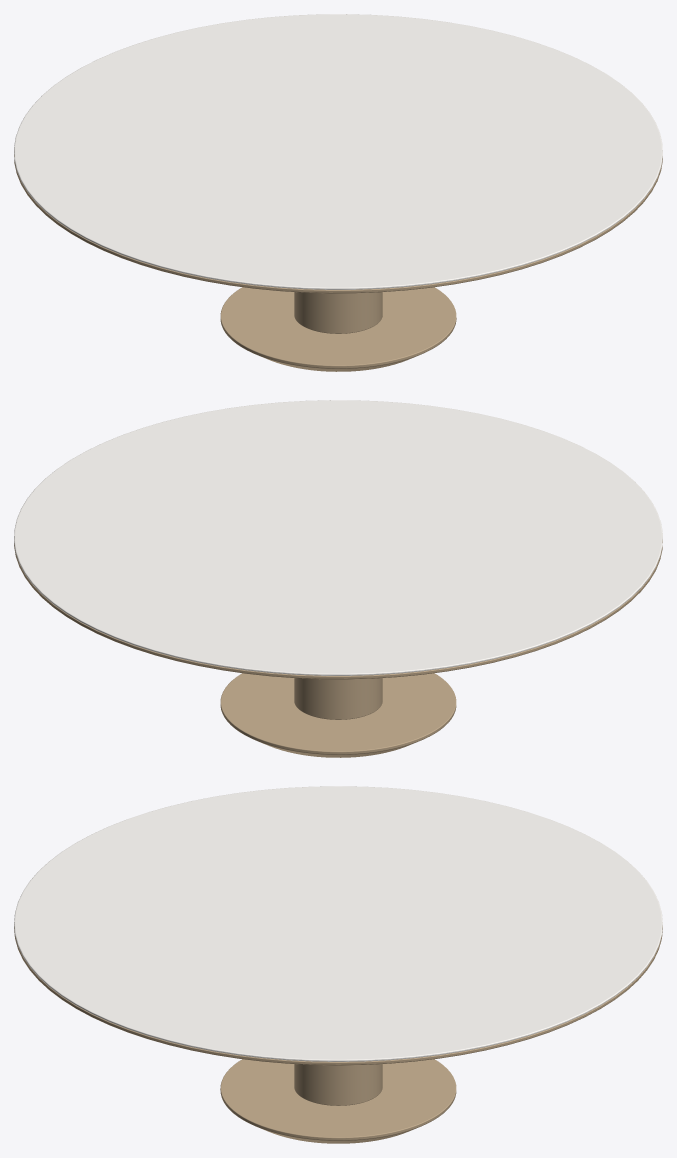
File: orbit_d110h33_hoje.glb
3 renders of one model, top to bottom at view 1: azimuth 30°, elevation 25°; view 2: azimuth 150°, elevation 25°; view 3: azimuth 270°, elevation 25°, orthographic.
Visible parts, largest first — view 1: Top Orbit Coffee Table 033, Base Orbit Coffee Table 033, Base Element Orbit Coffee Table 036, Undertop Orbit Coffee Table 033; view 2: Top Orbit Coffee Table 033, Base Orbit Coffee Table 033, Base Element Orbit Coffee Table 036, Undertop Orbit Coffee Table 033; view 3: Top Orbit Coffee Table 033, Base Orbit Coffee Table 033, Base Element Orbit Coffee Table 036, Undertop Orbit Coffee Table 033.
Part boxes in pixels (left/top/right/bottom): Top Orbit Coffee Table 033: left=14, top=14, right=662, bottom=289; Base Orbit Coffee Table 033: left=220, top=287, right=456, bottom=371; Base Element Orbit Coffee Table 036: left=294, top=292, right=382, bottom=333; Undertop Orbit Coffee Table 033: left=14, top=154, right=662, bottom=293; Top Orbit Coffee Table 033: left=14, top=400, right=662, bottom=675; Base Orbit Coffee Table 033: left=220, top=673, right=456, bottom=757; Base Element Orbit Coffee Table 036: left=294, top=678, right=382, bottom=719; Undertop Orbit Coffee Table 033: left=14, top=540, right=662, bottom=679; Top Orbit Coffee Table 033: left=14, top=786, right=662, bottom=1061; Base Orbit Coffee Table 033: left=220, top=1059, right=456, bottom=1143; Base Element Orbit Coffee Table 036: left=294, top=1064, right=382, bottom=1105; Undertop Orbit Coffee Table 033: left=14, top=926, right=662, bottom=1065.
Bounding box in the file's own units: 1.1 × 0.334 × 1.1.
